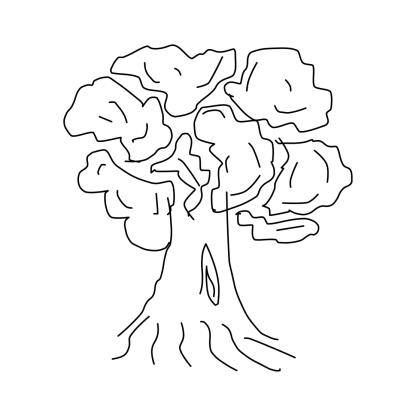crown_dizzy: (59, 38, 355, 251)
knot: (196, 241, 224, 305)
root_only: (108, 312, 298, 380)
trunk_reflex: (144, 250, 250, 311)
